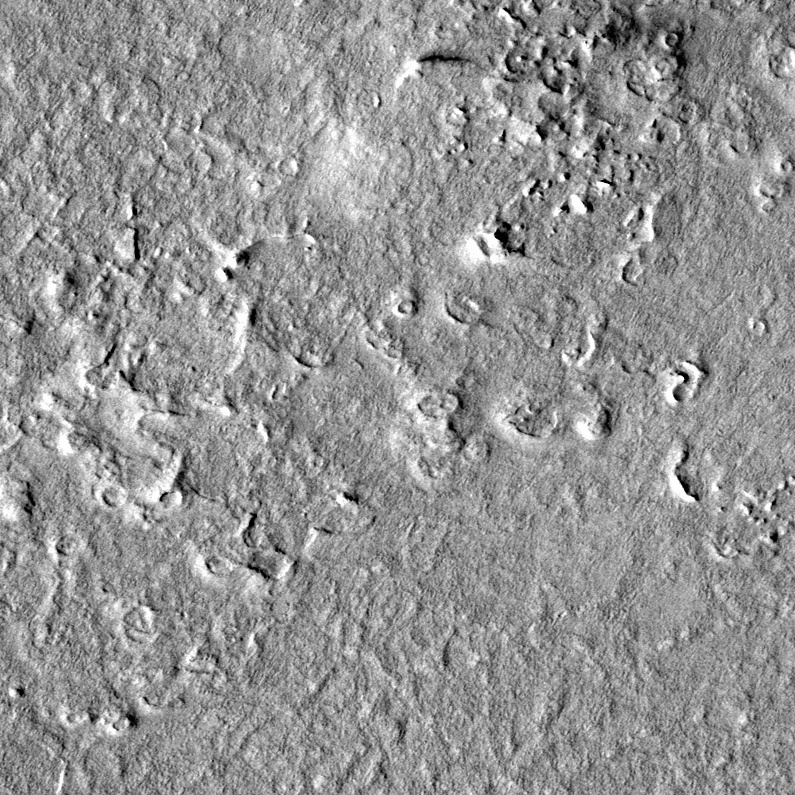dust_devil: (394, 49, 478, 90)
